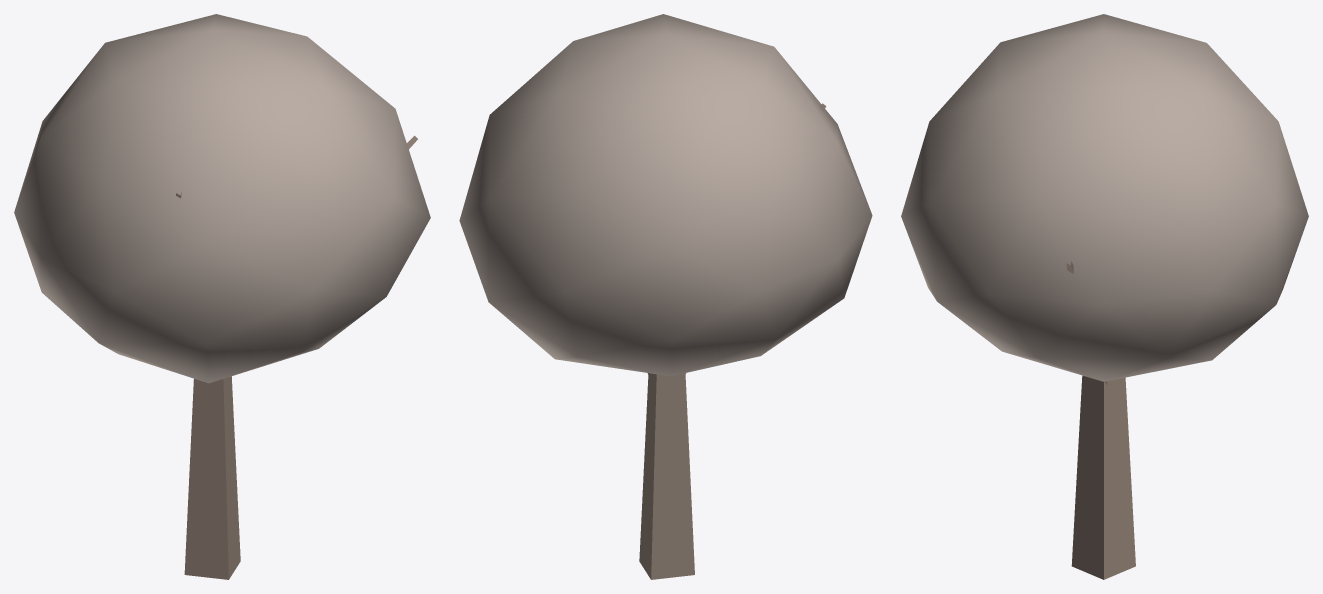
The model's file is tree-blossom-b-bare-far.glb.
The picture shows the model from 3 angles, left to right: view 1: azimuth 30°, elevation 25°; view 2: azimuth 150°, elevation 25°; view 3: azimuth 270°, elevation 25°; orthographic projection.
Parts seen in each view (by area): view 1: tree-blossom-b-bare-far; view 2: tree-blossom-b-bare-far; view 3: tree-blossom-b-bare-far.
Part boxes in pixels (<box>): tree-blossom-b-bare-far: <box>14,14,430,579</box>; tree-blossom-b-bare-far: <box>459,14,872,579</box>; tree-blossom-b-bare-far: <box>901,14,1308,579</box>.
Size of the model in its own units: 0.6827 by 0.9732 by 0.675.
